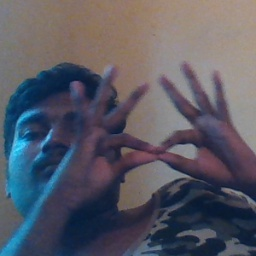B: (95, 97, 207, 187)
